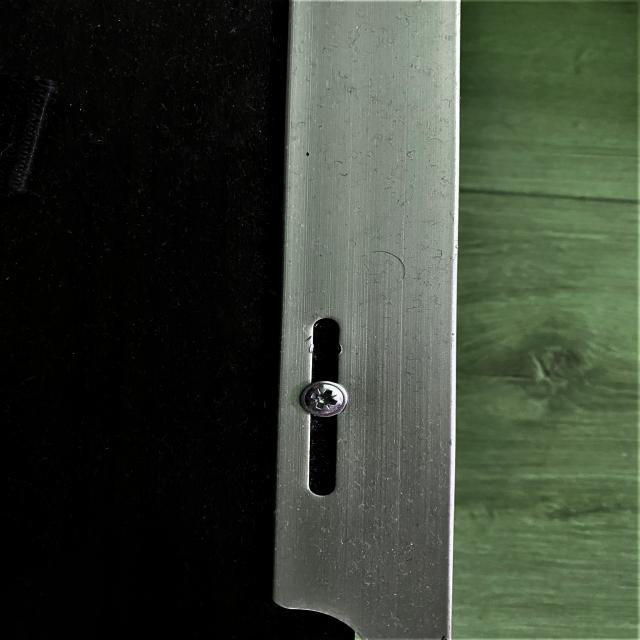PhillipsScrewHead: (297, 379, 351, 419)
